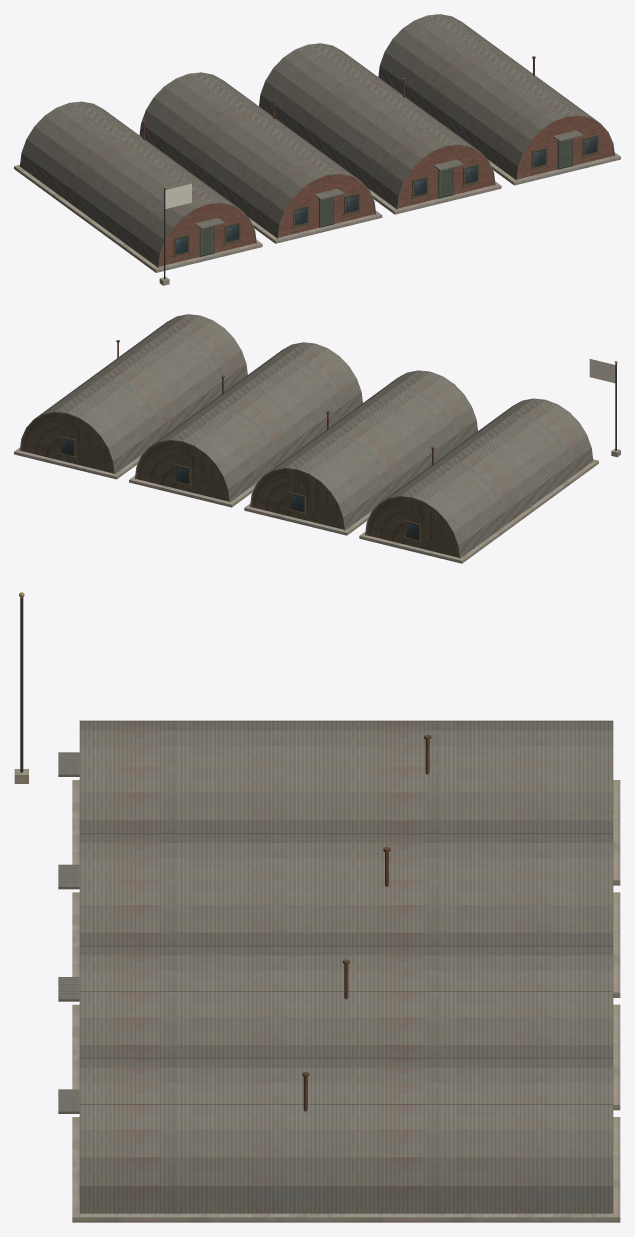
The model's file is city.glb.
3 views of the same model, one above another, from view 1: azimuth 30°, elevation 25°; view 2: azimuth 150°, elevation 25°; view 3: azimuth 270°, elevation 25° (orthographic). The views are drawn at different scales.
Visible parts, largest first — view 1: baraques, drapeau; view 2: baraques, drapeau; view 3: baraques, hampe.
Part boxes in pixels (box(x1,y1,x2,y2)): baraques: box(14, 14, 620, 272); drapeau: box(165, 183, 191, 208); baraques: box(14, 314, 598, 563); drapeau: box(589, 359, 615, 383); baraques: box(58, 720, 620, 1222); hampe: box(14, 592, 28, 783).
Size of the model in its own units: 51.85 by 10.26 by 29.85.
Materials: 11 (10 with a texture image).
